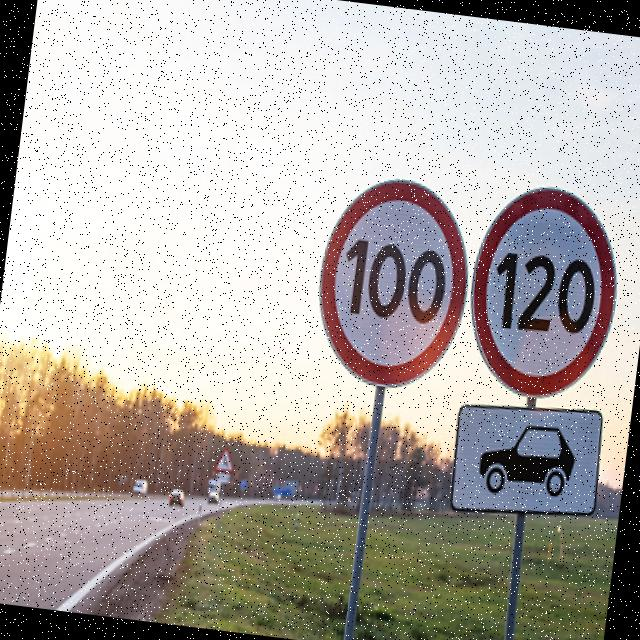speed_limit_100: (306, 168, 481, 396)
speed_limit_120: (455, 170, 634, 408)
